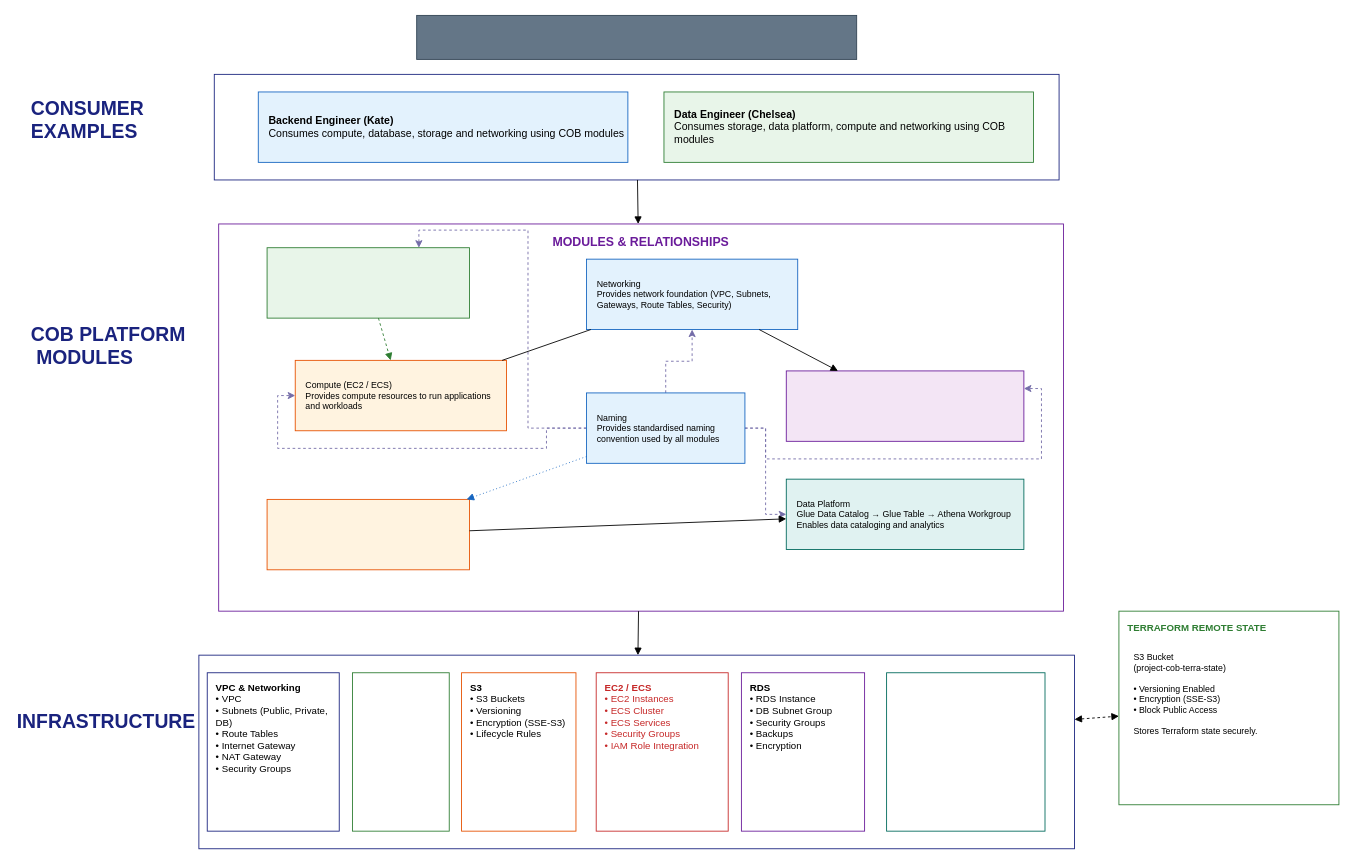
Some shapes in this 1354 by 864 pixel diagram are drawn without their labels. The centre of each missing label's shape, as x and y in pixels:
COB ARCHITECTURE: (x=636, y=37)
Database (RDS) Provides managed relational database for applications: (x=904, y=405)
Glue / Athena • Glue Data Catalog • Glue Table • Athena Workgroup: (x=965, y=751)
IAM Provides roles and policies consumed by workloads that need permissions: (x=367, y=282)
IAM • IAM Roles • IAM Policies: (x=400, y=751)
Storage (S3) Provides scalable and secure object storage: (x=367, y=534)
